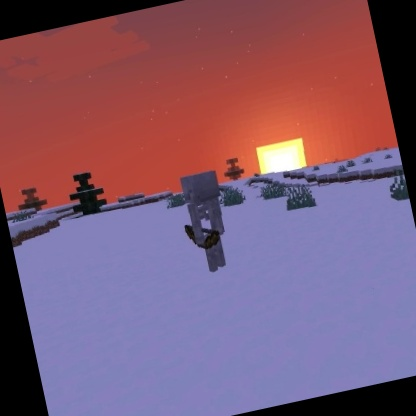skeleton: (171, 166, 240, 280)
